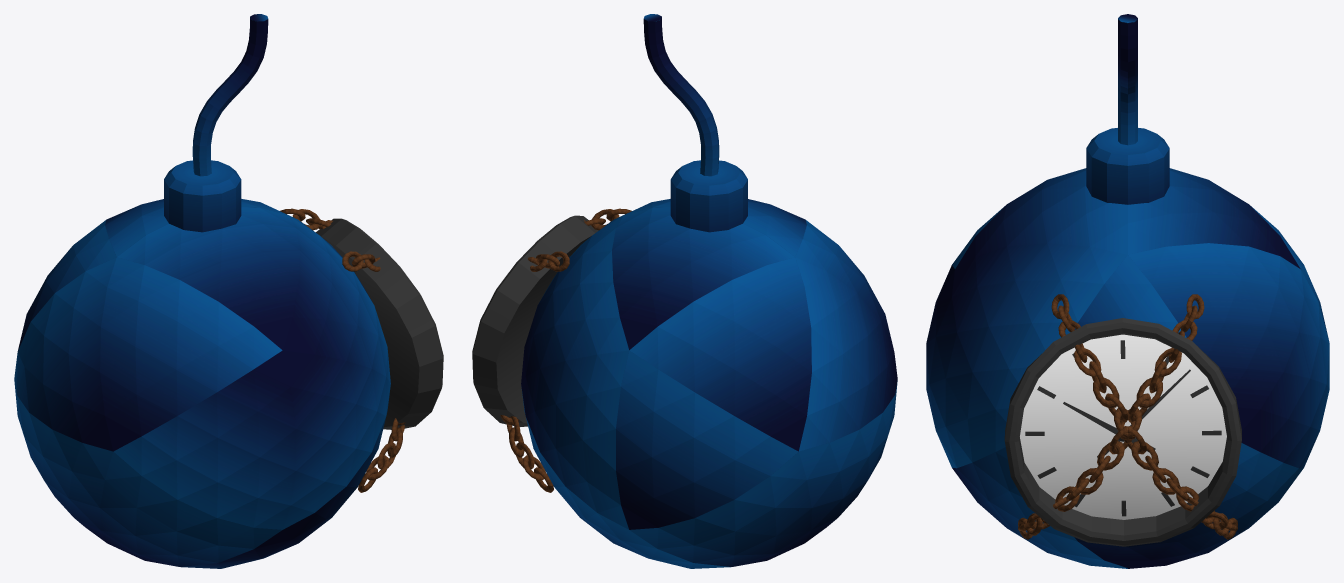
The model's file is btd.obj.
3 renders of one model, left to right at view 1: azimuth 30°, elevation 25°; view 2: azimuth 150°, elevation 25°; view 3: azimuth 270°, elevation 25°, orthographic. The views are drawn at different scales.
Visible parts, largest first — view 1: 005_Sphere, 000_Analog_clock, 004_Cylinder, 001_Fuse, 006_Basic_chain, 007_Basic_chain; view 2: 005_Sphere, 000_Analog_clock, 004_Cylinder, 001_Fuse, 007_Basic_chain, 006_Basic_chain; view 3: 005_Sphere, 000_Analog_clock, 004_Cylinder, 007_Basic_chain, 006_Basic_chain, 001_Fuse.
Part boxes in pixels (left/top/right/bottom): 005_Sphere: left=14, top=199, right=390, bottom=568; 000_Analog_clock: left=316, top=218, right=443, bottom=429; 004_Cylinder: left=164, top=160, right=241, bottom=232; 001_Fuse: left=192, top=17, right=268, bottom=176; 006_Basic_chain: left=280, top=208, right=405, bottom=492; 007_Basic_chain: left=342, top=251, right=380, bottom=271; 005_Sphere: left=521, top=199, right=897, bottom=568; 000_Analog_clock: left=472, top=215, right=598, bottom=426; 004_Cylinder: left=670, top=160, right=747, bottom=232; 001_Fuse: left=643, top=17, right=719, bottom=176; 007_Basic_chain: left=500, top=208, right=631, bottom=492; 006_Basic_chain: left=528, top=251, right=569, bottom=271; 005_Sphere: left=926, top=168, right=1329, bottom=568; 000_Analog_clock: left=1004, top=318, right=1241, bottom=546; 004_Cylinder: left=1086, top=128, right=1169, bottom=204; 007_Basic_chain: left=1051, top=294, right=1237, bottom=539; 006_Basic_chain: left=1018, top=294, right=1204, bottom=539; 001_Fuse: left=1118, top=19, right=1137, bottom=145.
Bounding box in the file's own units: 169 × 233 × 152.
3 materials, 3 textured.
